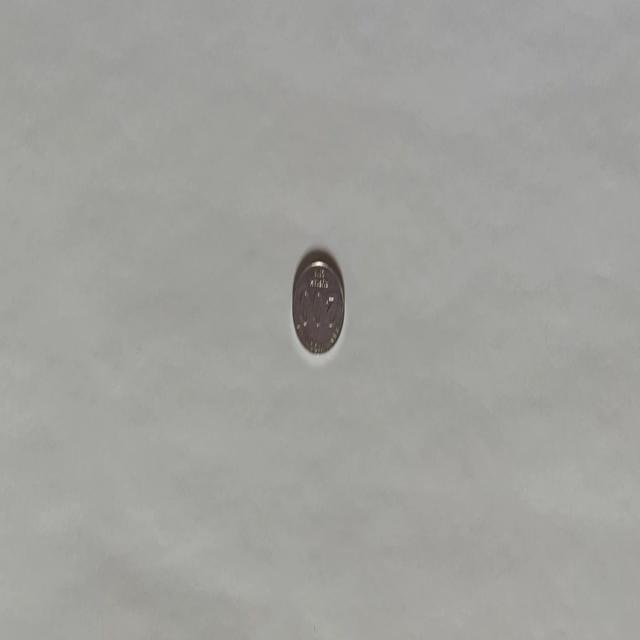dua ratus rupiah: (291, 254, 345, 356)
